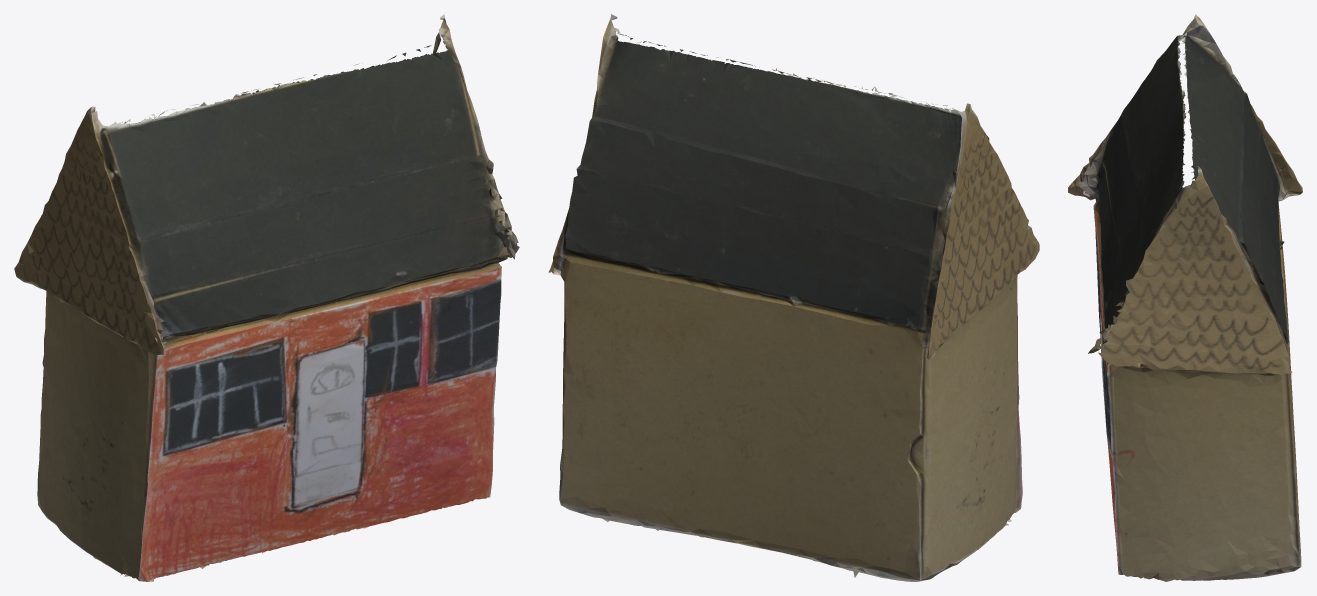
3 renders of one model, left to right at view 1: azimuth 30°, elevation 25°; view 2: azimuth 150°, elevation 25°; view 3: azimuth 270°, elevation 25°, orthographic. The views are drawn at different scales.
Parts seen in each view (by area): view 1: Object_0.001; view 2: Object_0.001; view 3: Object_0.001.
Boxes of the visible parts, x1,y1,x2,y2 form: Object_0.001: [14, 14, 519, 581]; Object_0.001: [548, 14, 1039, 581]; Object_0.001: [1068, 14, 1302, 581].
Bounding box in the file's own units: 24.28 × 27.41 × 13.88.
Materials: 1 (1 with a texture image).
